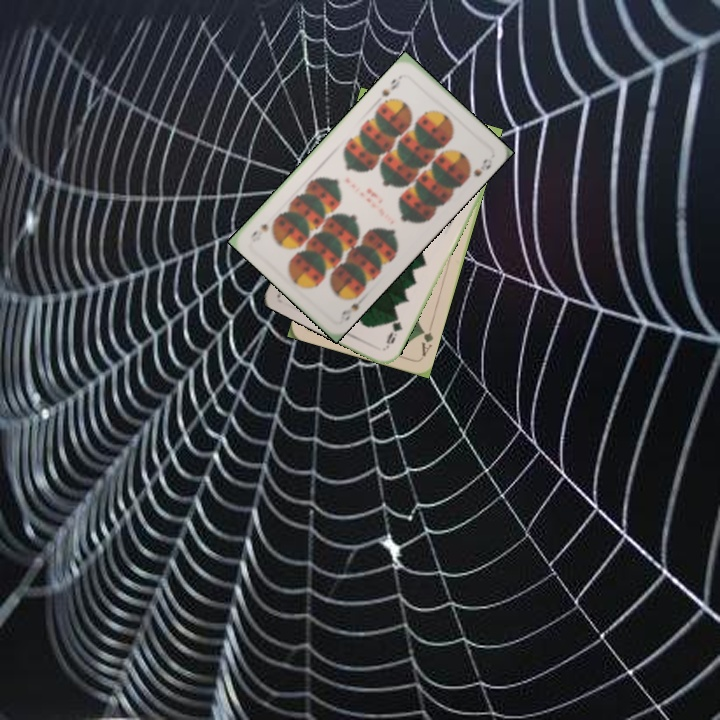G9: (382, 311, 405, 351)
GA: (417, 325, 436, 359)
S9: (336, 292, 368, 323), (377, 70, 406, 100)
